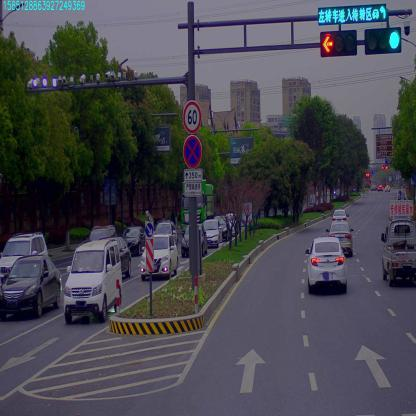traffic-light: (318, 30, 356, 57), (319, 8, 388, 22), (365, 28, 401, 52)
